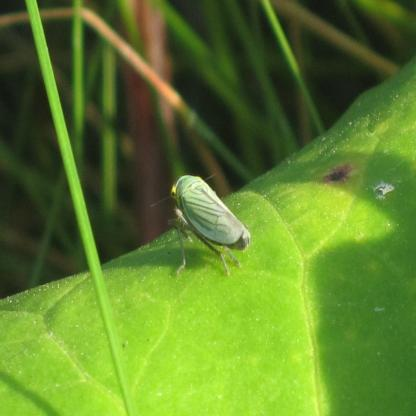Green-Leafhopper: (159, 173, 253, 280)
